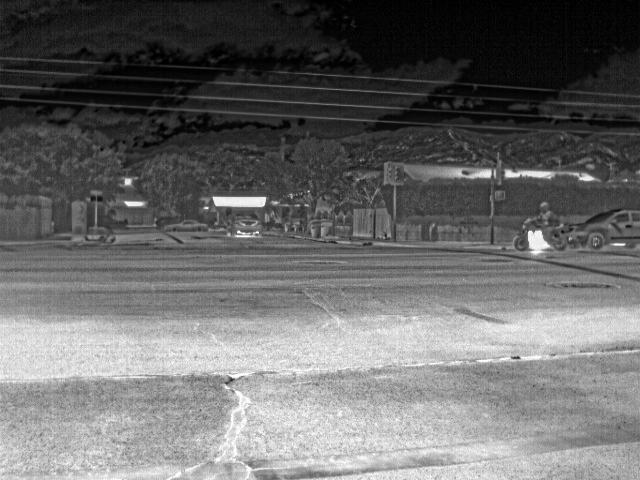car: (574, 208, 639, 251), (163, 218, 208, 232), (232, 218, 261, 236)
person: (534, 200, 552, 230)
